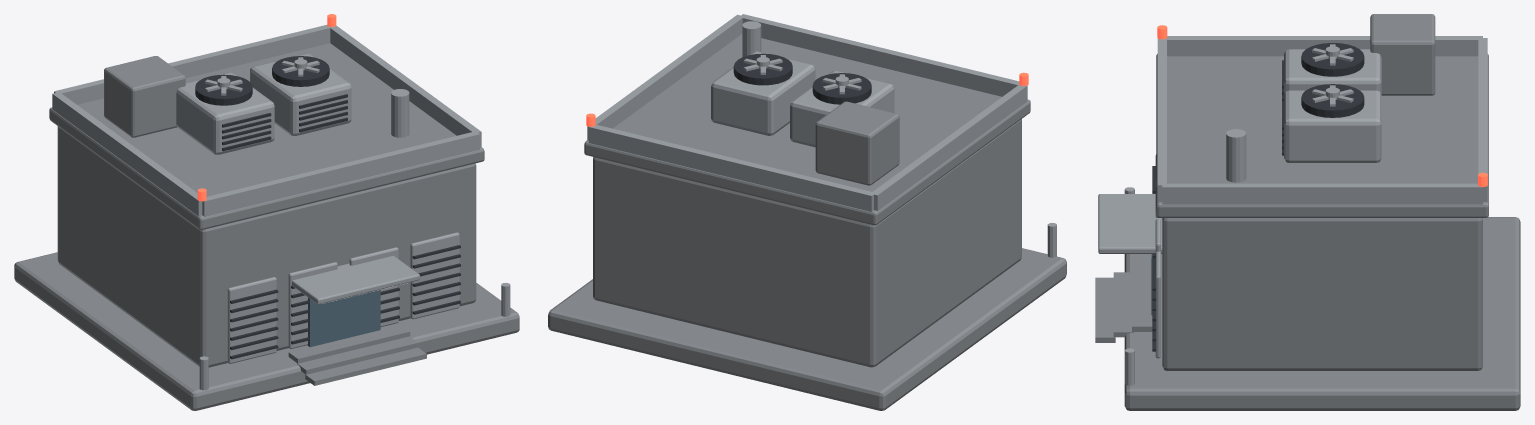
Rendered from warehouse.glb.
3 renders of one model, left to right at view 1: azimuth 30°, elevation 25°; view 2: azimuth 150°, elevation 25°; view 3: azimuth 270°, elevation 25°, orthographic. The views are drawn at different scales.
Visible parts, largest first — view 1: ZDC_warehouse; view 2: ZDC_warehouse; view 3: ZDC_warehouse.
Part boxes in pixels (bbox=[...]): ZDC_warehouse: bbox=[14, 14, 519, 410]; ZDC_warehouse: bbox=[548, 14, 1066, 410]; ZDC_warehouse: bbox=[1095, 14, 1520, 410].
Bounding box in the file's own units: 2.05 × 1.39 × 2.1.
